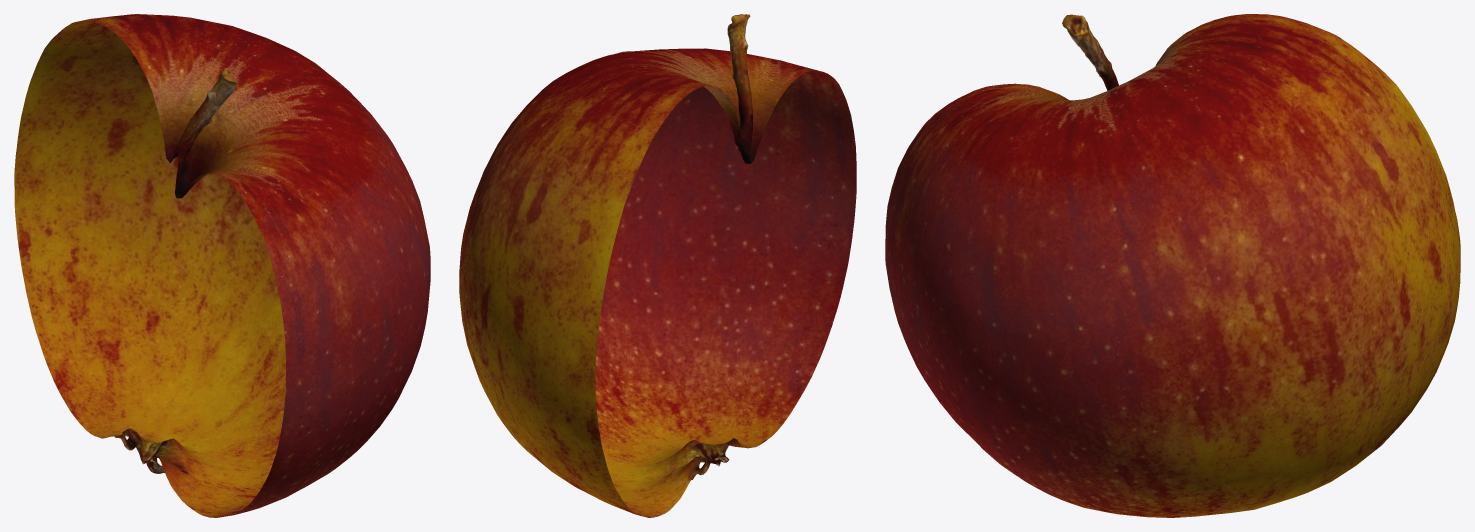
Rendered from halfA.glb.
3 views of the same model, side by side, from view 1: azimuth 30°, elevation 25°; view 2: azimuth 150°, elevation 25°; view 3: azimuth 270°, elevation 25° (orthographic). The views are drawn at different scales.
Visible parts, largest first — view 1: food_apple_01; view 2: food_apple_01; view 3: food_apple_01.
Boxes of the visible parts, left/top/right/bottom form: food_apple_01: left=14, top=14, right=430, bottom=517; food_apple_01: left=459, top=14, right=856, bottom=517; food_apple_01: left=885, top=14, right=1460, bottom=517.
Size of the model in its own units: 1.01 by 1.75 by 1.97.
1 material, 1 textured.
